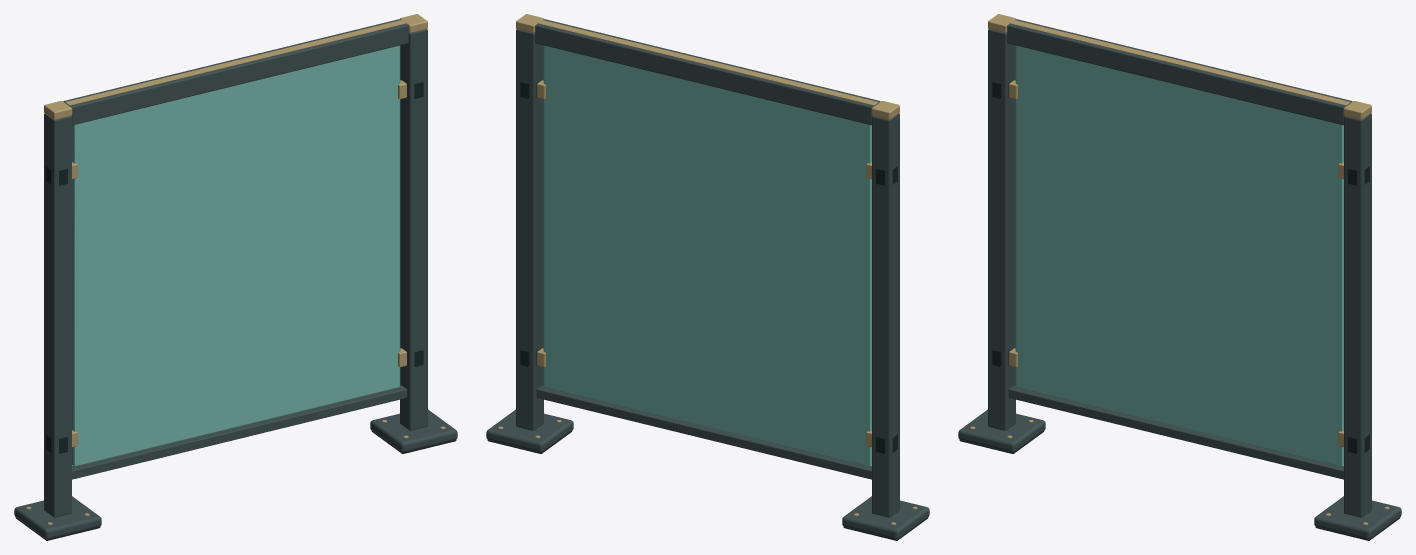
The model's file is mall-glass-railing-1m.glb.
The picture shows the model from 3 angles, left to right: view 1: azimuth 30°, elevation 25°; view 2: azimuth 150°, elevation 25°; view 3: azimuth 330°, elevation 25°; orthographic projection.
Visible parts, largest first — view 1: MODULE_Infill, MODULE_Post_Left, MODULE_Post_Right; view 2: MODULE_Infill, MODULE_Post_Left, MODULE_Post_Right; view 3: MODULE_Infill, MODULE_Post_Right, MODULE_Post_Left.
Boxes of the visible parts, x1,y1,x2,y2 form: MODULE_Infill: (63, 19, 408, 479); MODULE_Post_Left: (14, 101, 101, 540); MODULE_Post_Right: (370, 14, 457, 453); MODULE_Infill: (535, 19, 880, 479); MODULE_Post_Left: (842, 101, 929, 540); MODULE_Post_Right: (486, 14, 573, 453); MODULE_Infill: (1007, 19, 1352, 479); MODULE_Post_Right: (1314, 101, 1401, 540); MODULE_Post_Left: (958, 14, 1045, 453).
Bounding box in the file's own units: 1.16 × 1.12 × 0.16.
